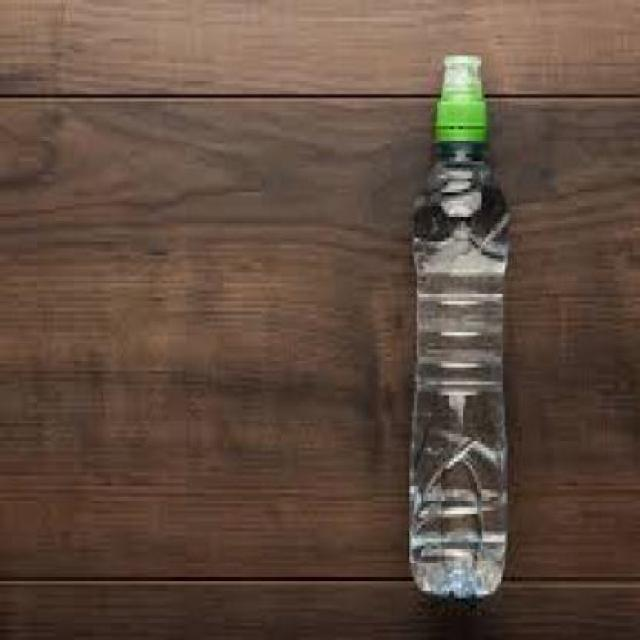Drinking: (388, 32, 527, 606)
